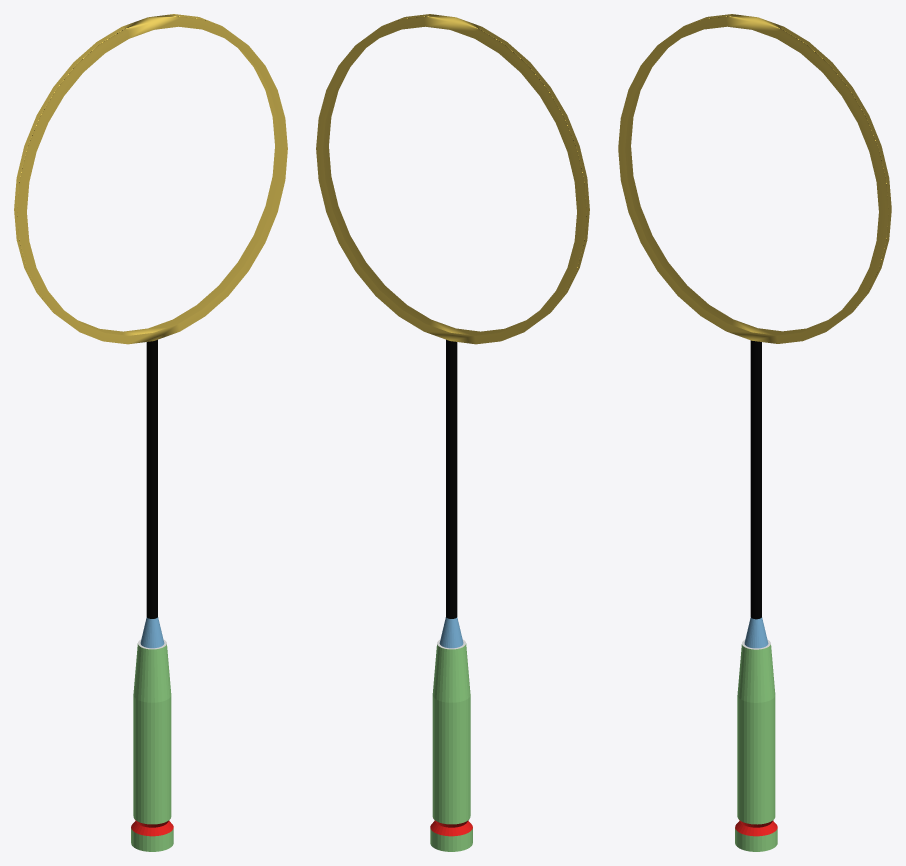
The model's file is batmintonRacket.fbx.
3 renders of one model, left to right at view 1: azimuth 30°, elevation 25°; view 2: azimuth 150°, elevation 25°; view 3: azimuth 330°, elevation 25°, orthographic.
Visible parts, largest first — view 1: Cylinder.025; view 2: Cylinder.025; view 3: Cylinder.025.
Part boxes in pixels (x1=…): Cylinder.025: x1=14, y1=14, x2=287, y2=851; Cylinder.025: x1=316, y1=14, x2=589, y2=851; Cylinder.025: x1=618, y1=14, x2=891, y2=851.
Size of the model in its own units: 1.61 by 4.75 by 0.223.
